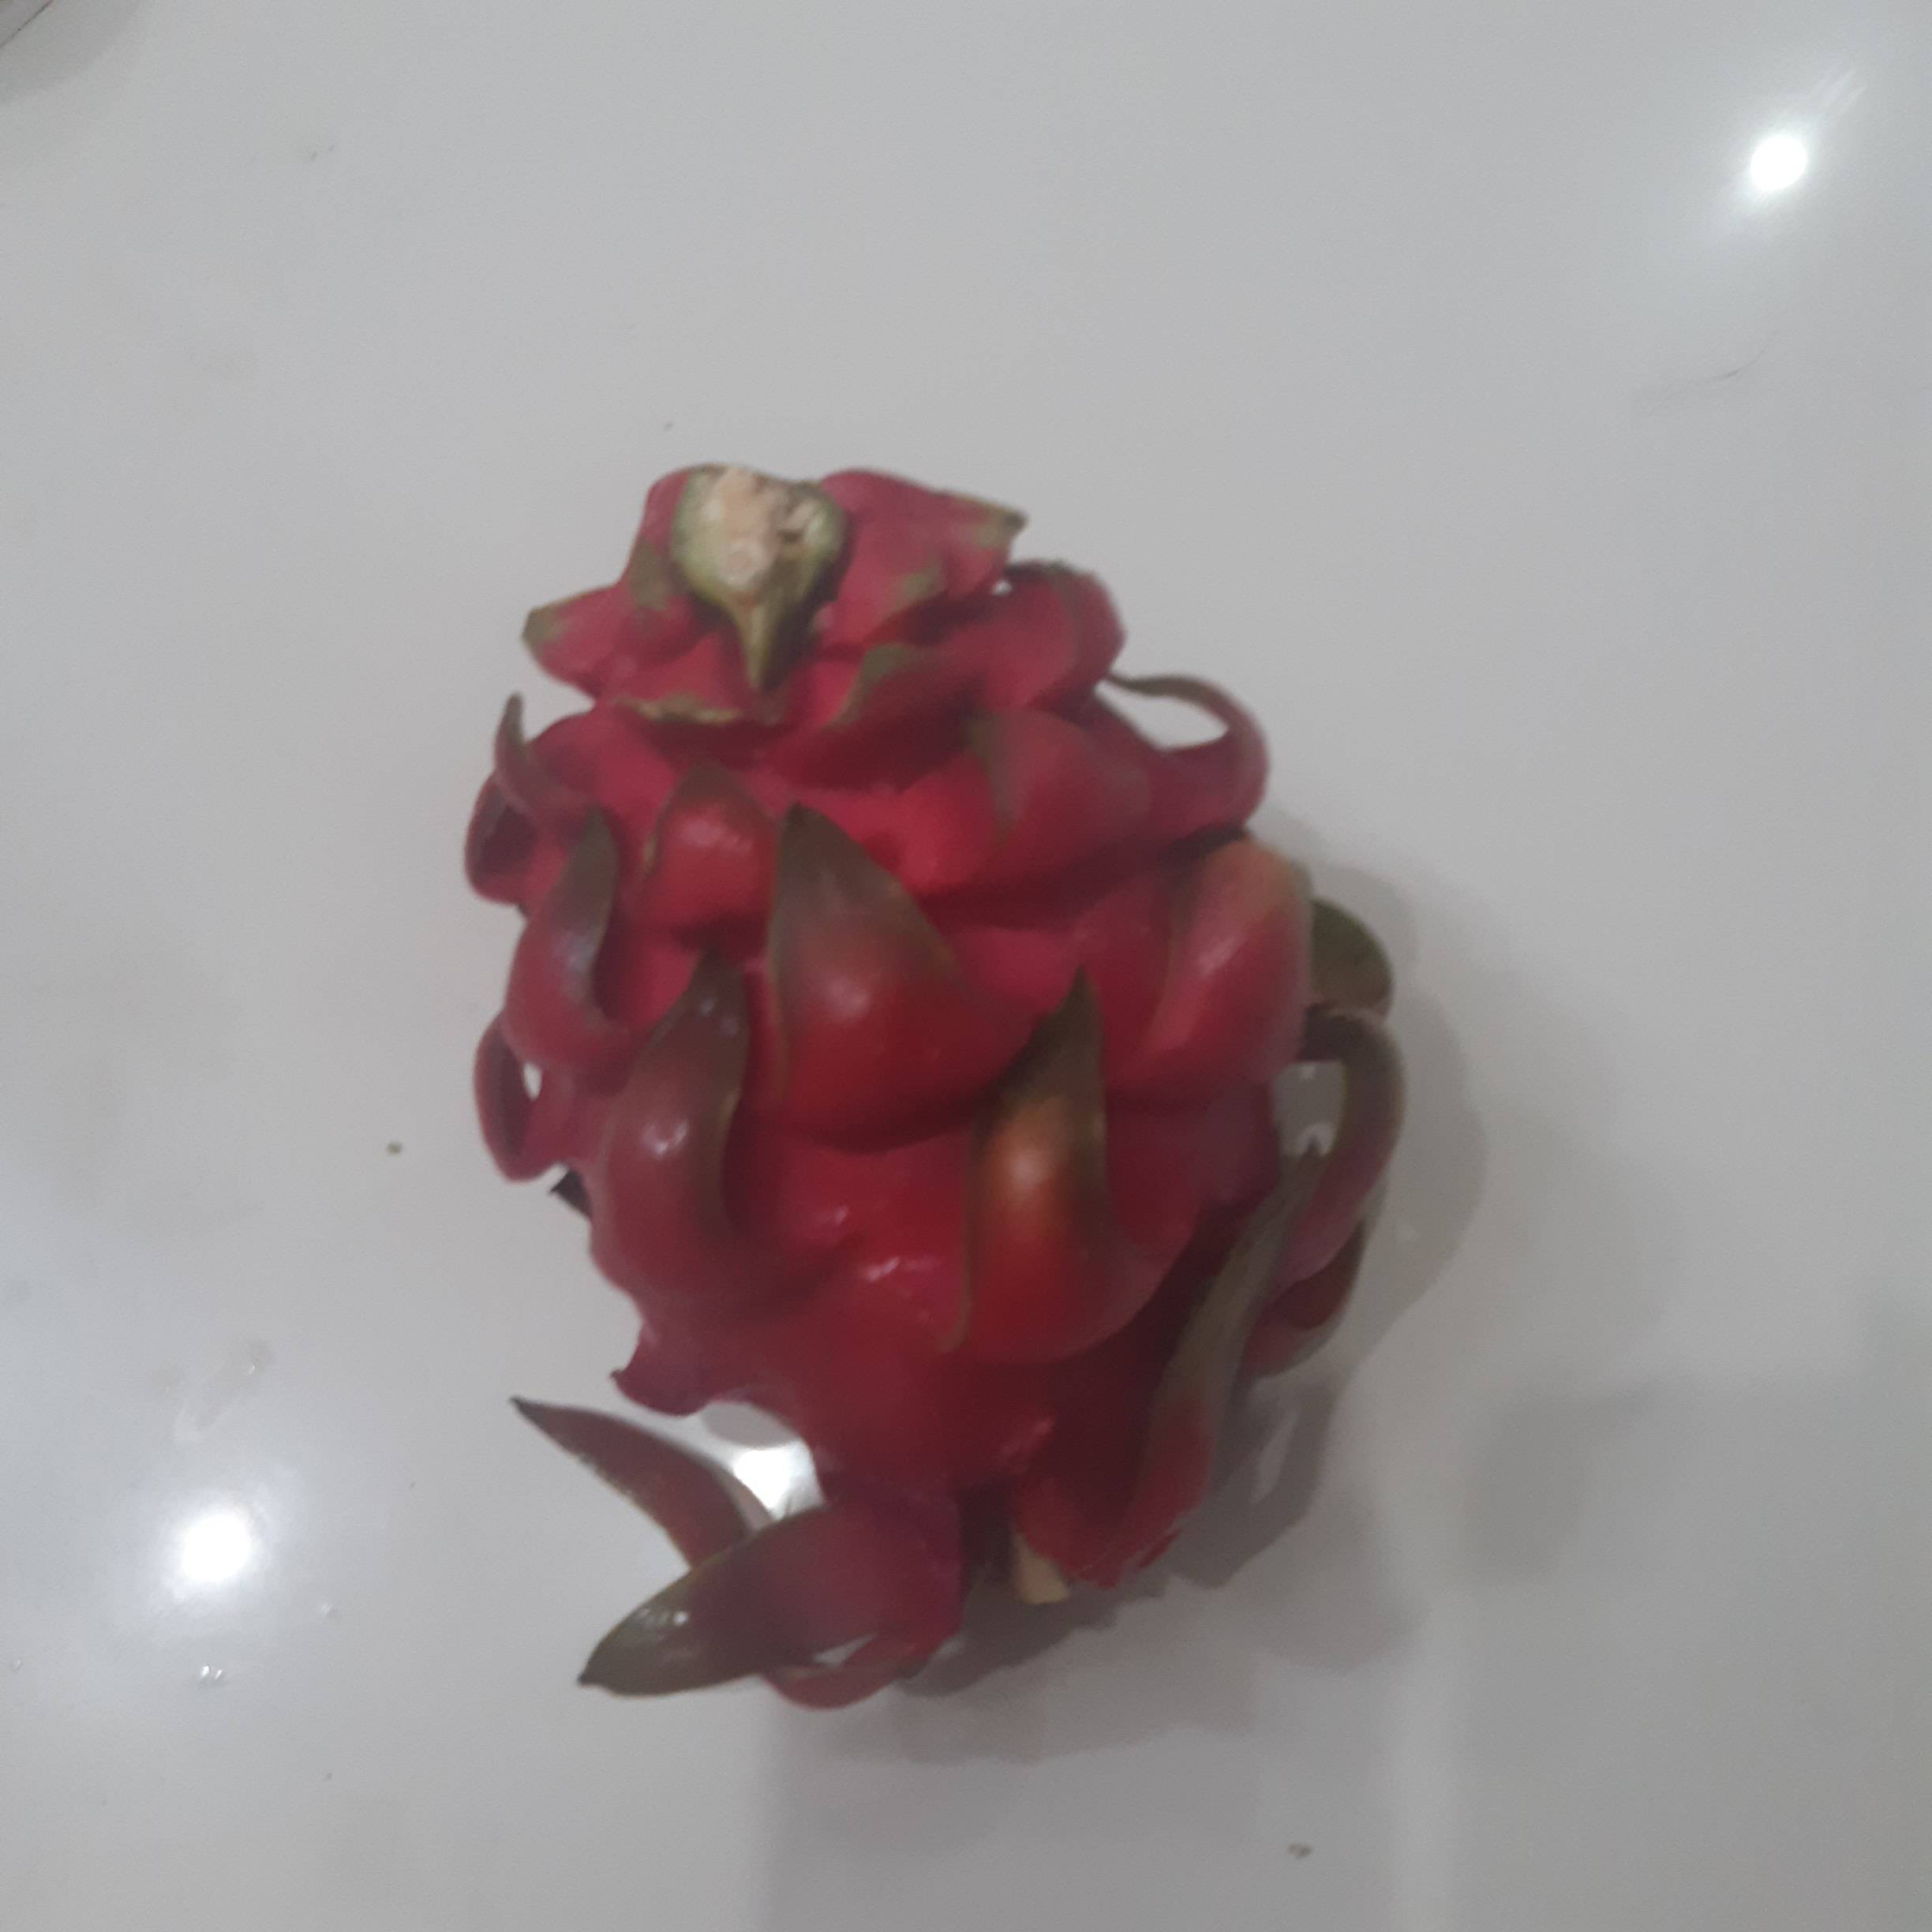Thanh long: (492, 469, 1399, 1654)
